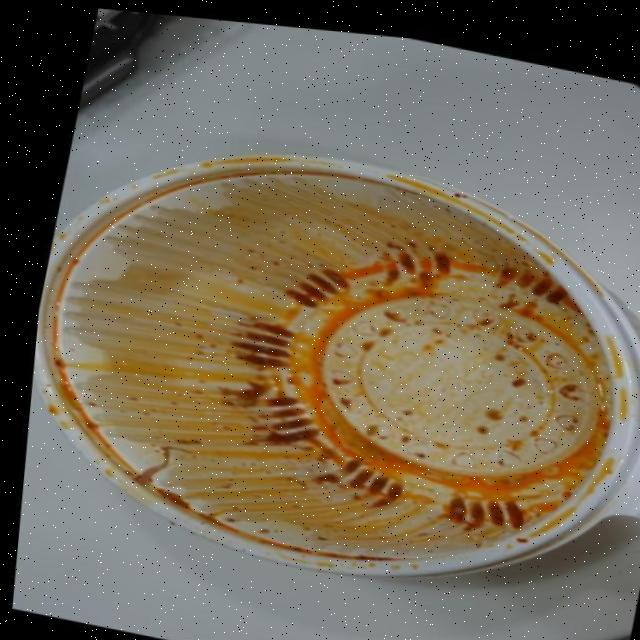disposable: (40, 119, 640, 579)
